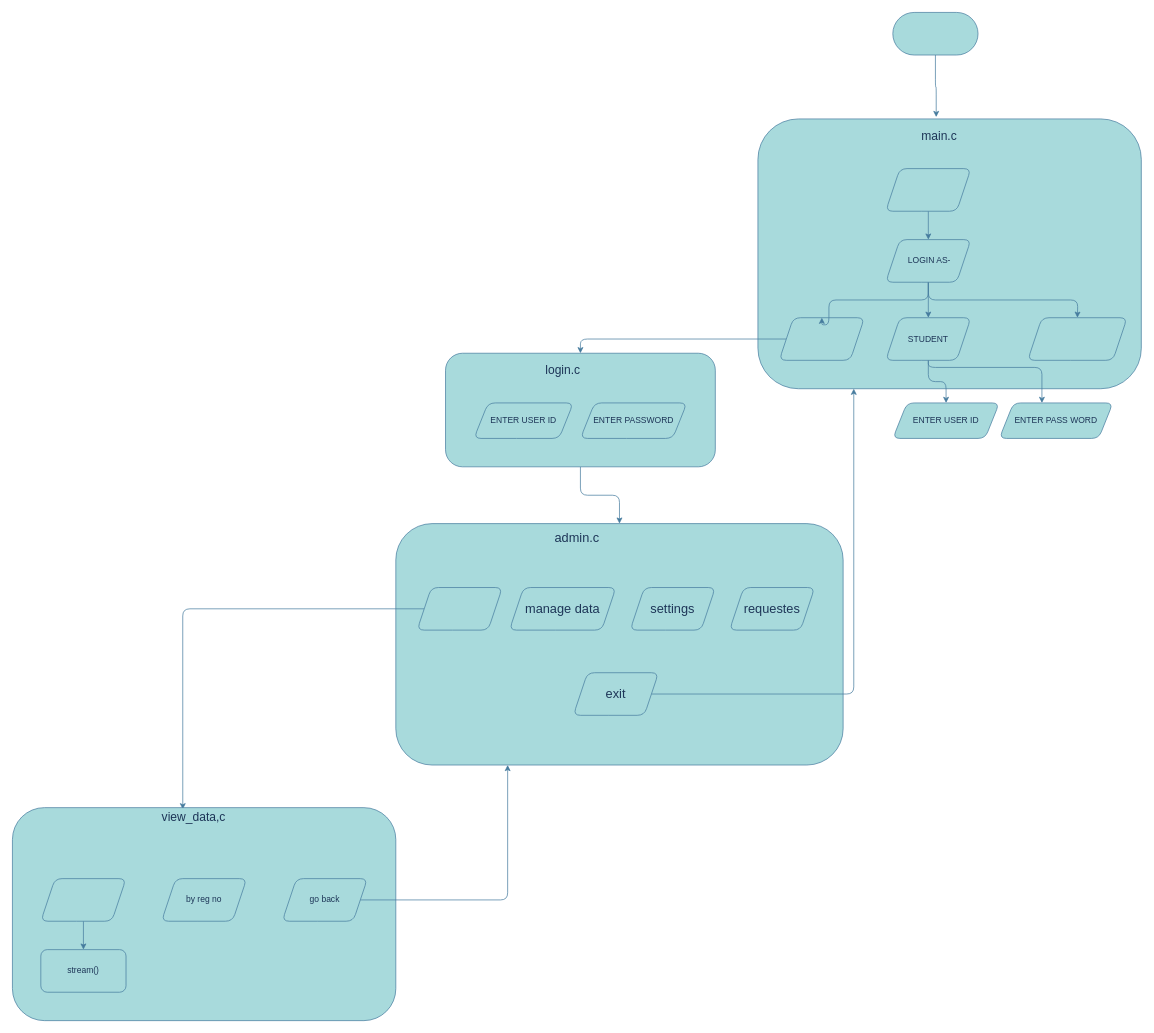
This 1154x1033 diagram has some shape labels left out. The shapes that lost their labels are listed below. From the top down, each one's centre as x and y in pixels, then its label:
point 935,33: start
point 928,189: NBC
point 821,338: ADMIN
point 1077,338: EXIT(0)
point 459,608: view data
point 83,899: by stream
